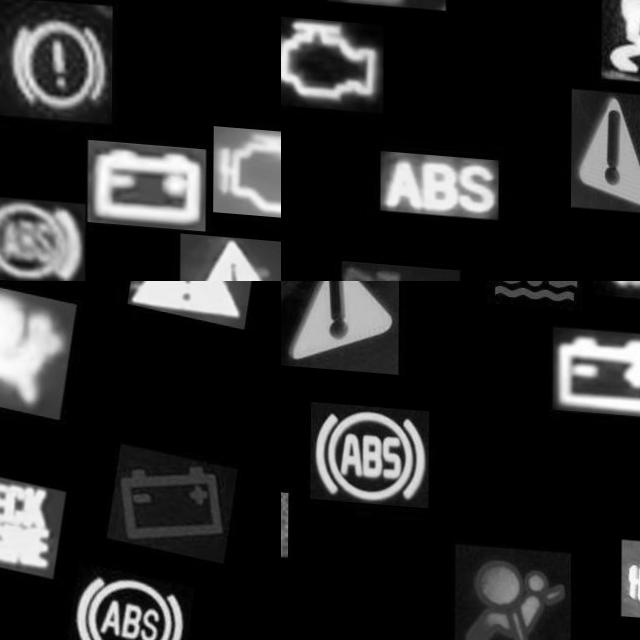Central Warning lamp: (281, 281, 399, 370), (571, 81, 640, 205), (127, 281, 259, 322), (180, 229, 281, 281)
Engine cooling system: (475, 281, 594, 315)
